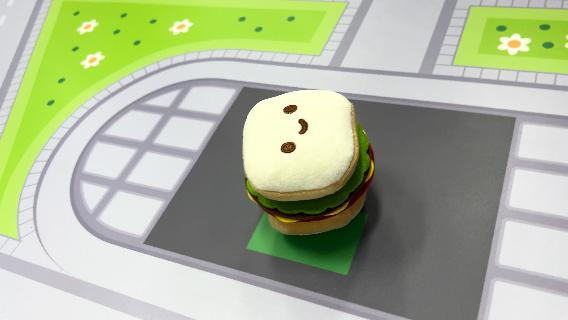sandwich: (240, 87, 376, 237)
